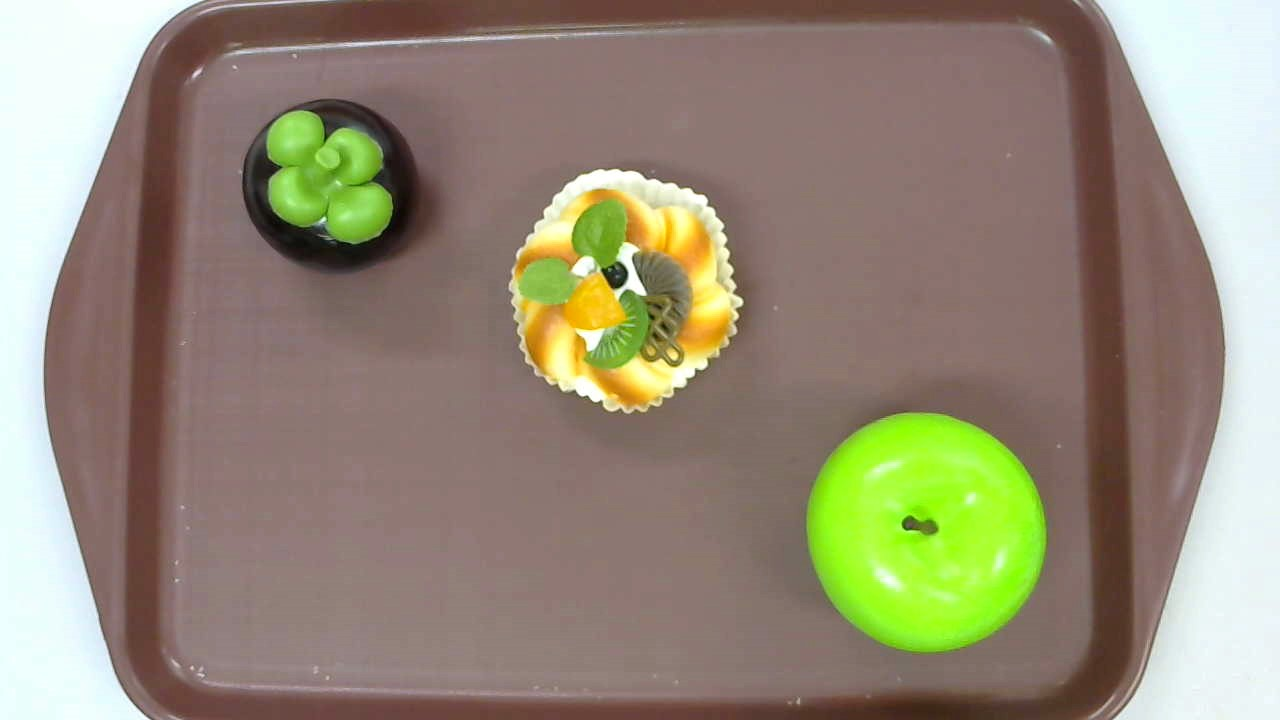fruit tart: (508, 167, 744, 414)
green apple: (805, 411, 1047, 657)
mangosteen: (241, 97, 419, 275)
